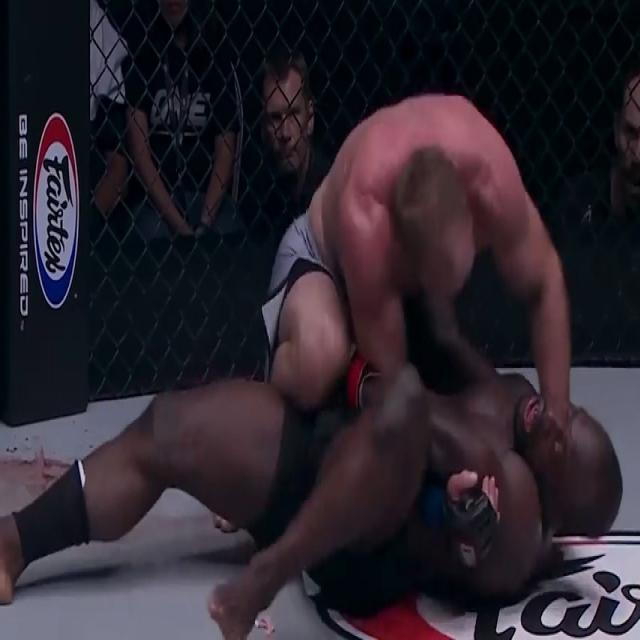fight: (0, 86, 620, 640)
